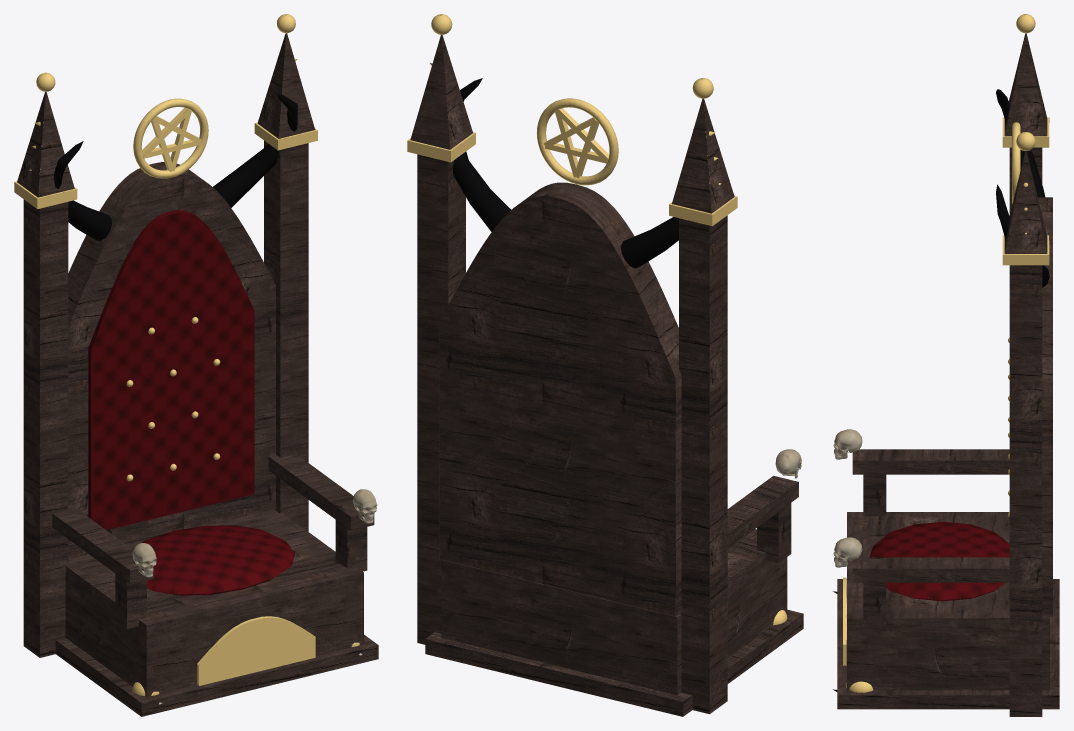
File: throne.glb
3 views of the same model, side by side, from view 1: azimuth 30°, elevation 25°; view 2: azimuth 150°, elevation 25°; view 3: azimuth 270°, elevation 25° (orthographic). The views are drawn at different scales.
Parts seen in each view (by area): view 1: throne; view 2: throne; view 3: throne.
Boxes of the visible parts, x1,y1,x2,y2 form: throne: (14, 14, 378, 716); throne: (407, 14, 803, 716); throne: (832, 14, 1059, 716).
Size of the model in its own units: 1.68 by 3.3 by 1.18.
4 materials, 3 textured.
